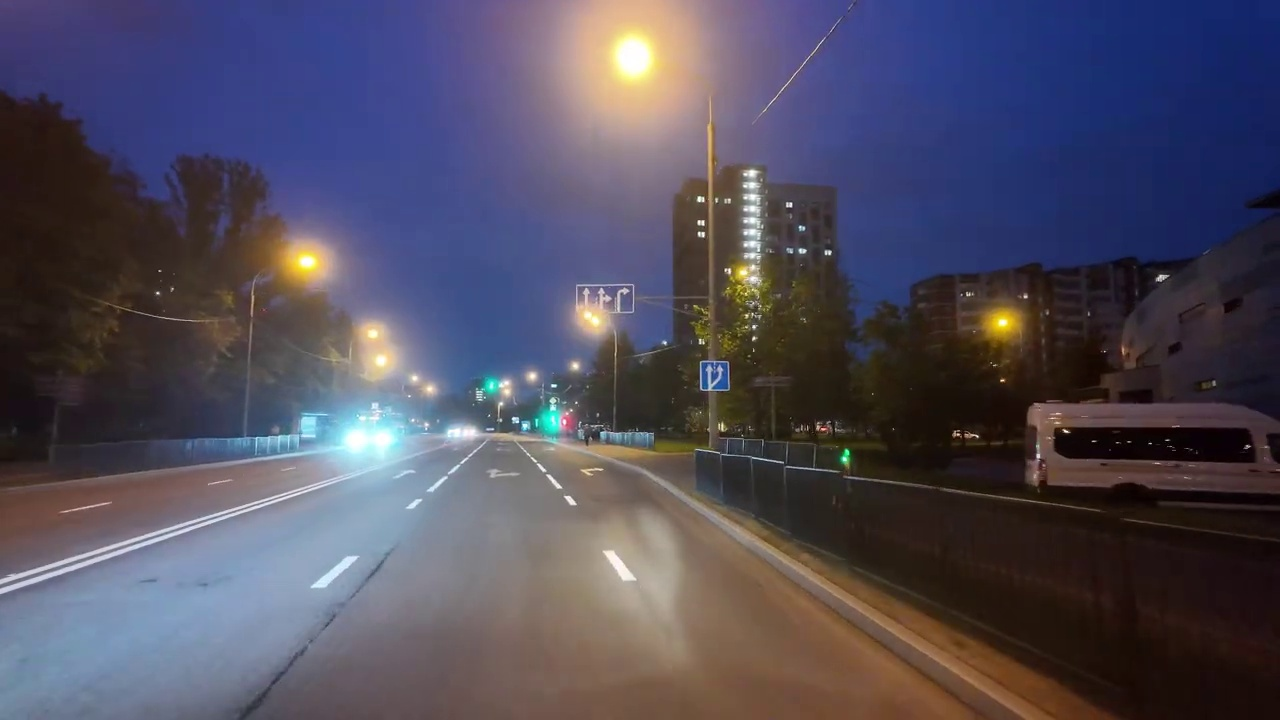acesa: (600, 27, 664, 93), (354, 321, 395, 376), (280, 245, 325, 283), (983, 308, 1022, 342), (576, 303, 610, 334)
